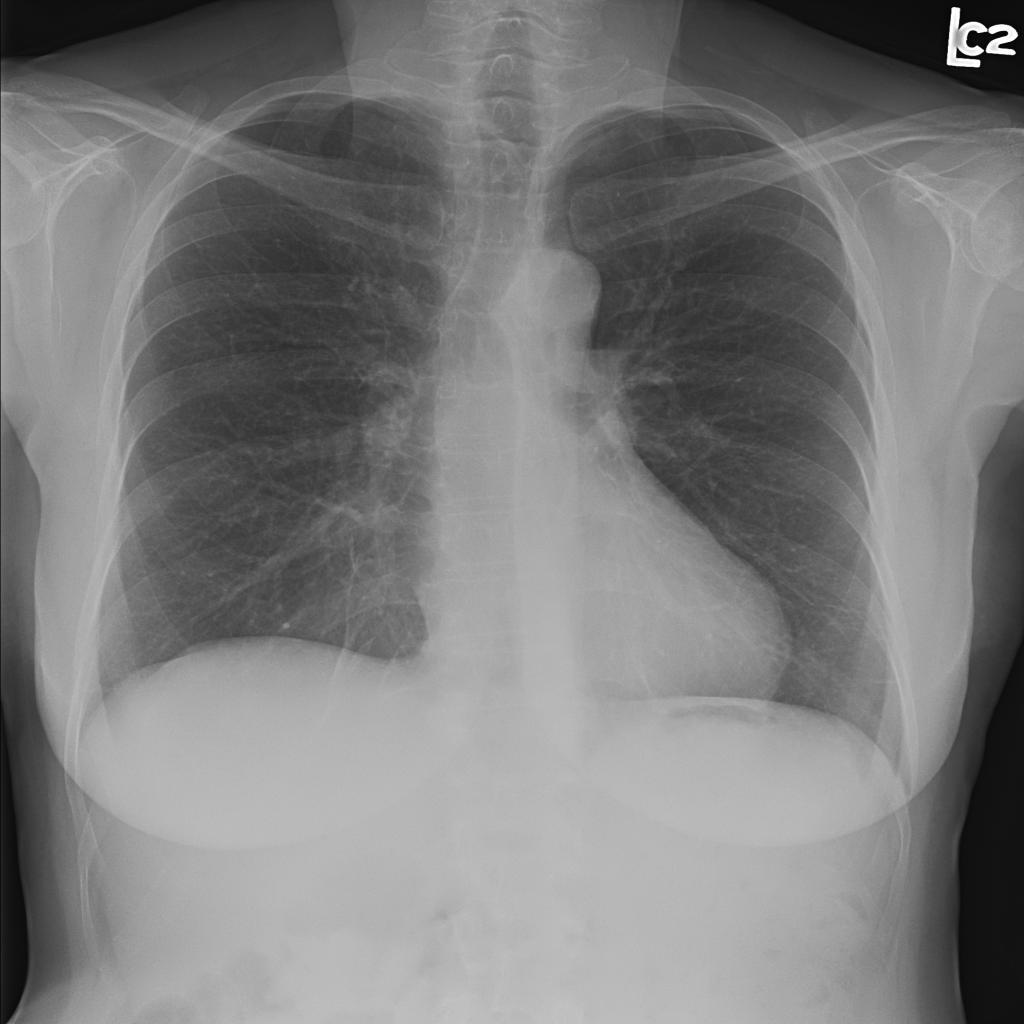Nodule: (156, 219, 224, 235), (179, 179, 196, 194)
